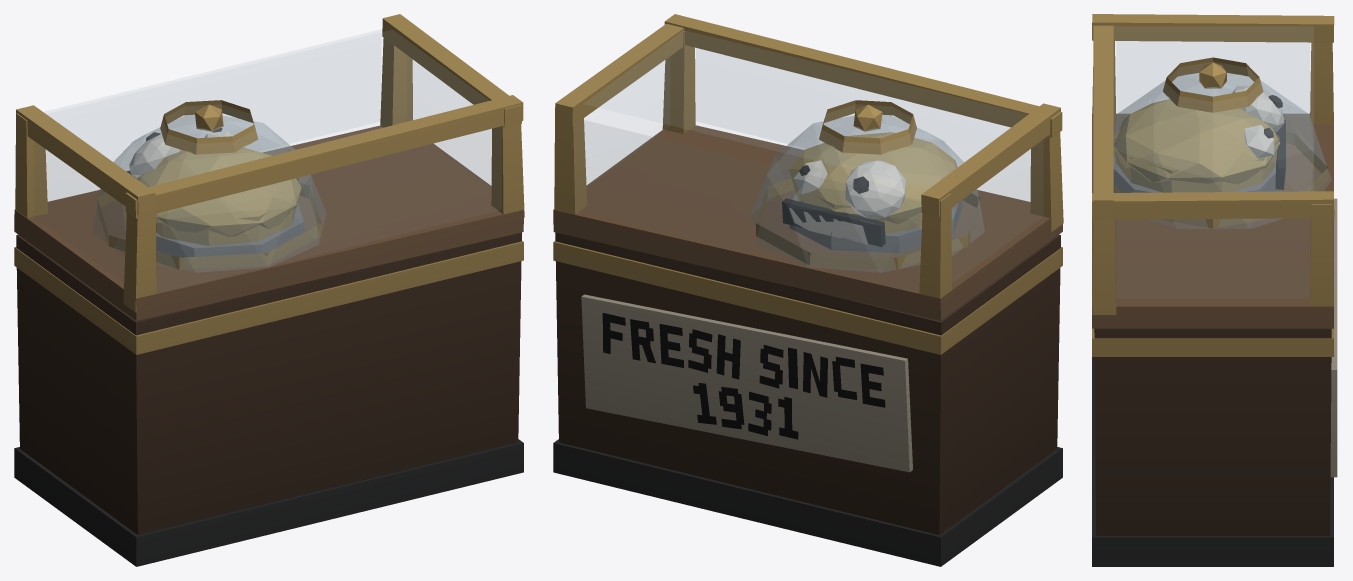
Rendered from counter.glb.
3 views of the same model, side by side, from view 1: azimuth 30°, elevation 25°; view 2: azimuth 150°, elevation 25°; view 3: azimuth 270°, elevation 25° (orthographic).
Parts seen in each view (by area): view 1: Counter; view 2: Counter; view 3: Counter.
Boxes of the visible parts, x1,y1,x2,y2 form: Counter: (14, 14, 524, 566); Counter: (553, 14, 1063, 566); Counter: (1092, 14, 1337, 566).
Bounding box in the file's own units: 1.1 × 1.04 × 0.6122.
